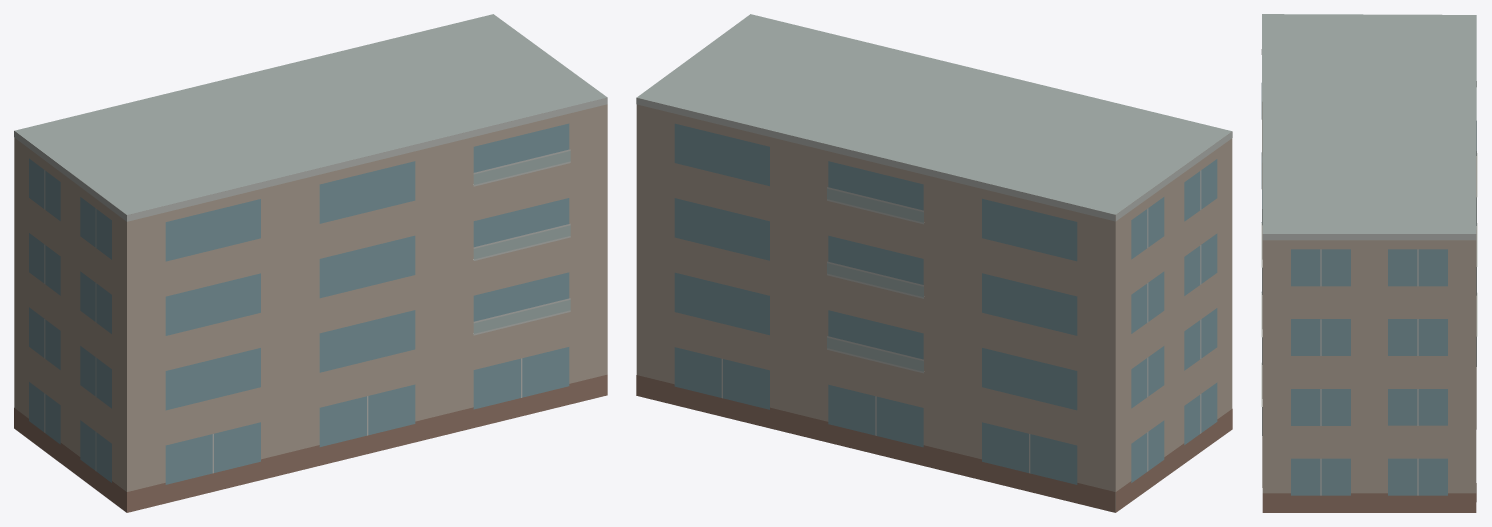
The model's file is survey-upis-32960604.glb.
3 renders of one model, left to right at view 1: azimuth 30°, elevation 25°; view 2: azimuth 150°, elevation 25°; view 3: azimuth 270°, elevation 25°, orthographic. The views are drawn at different scales.
Visible parts, largest first — view 1: survey-upis-32960604.tmp; view 2: survey-upis-32960604.tmp; view 3: survey-upis-32960604.tmp.
Boxes of the visible parts, x1,y1,x2,y2 form: survey-upis-32960604.tmp: [14, 14, 607, 512]; survey-upis-32960604.tmp: [636, 14, 1232, 512]; survey-upis-32960604.tmp: [1261, 14, 1477, 512].
Bounding box in the file's own units: 18.36 × 10.85 × 7.63.
